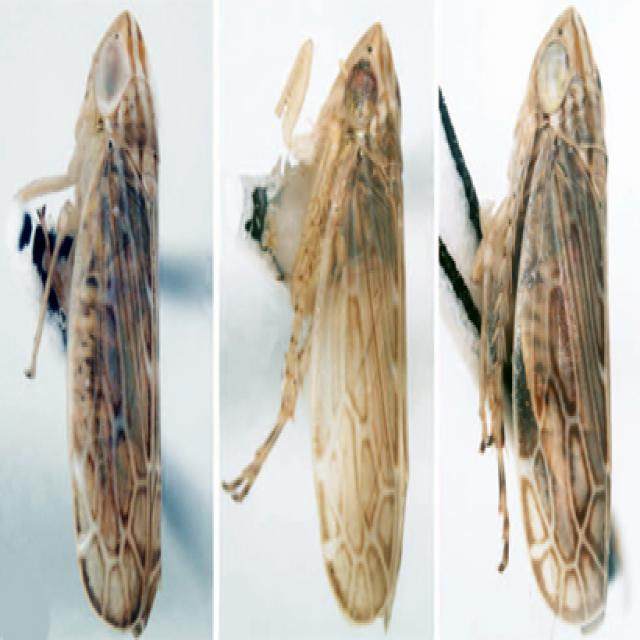Yechan: (483, 2, 620, 638), (54, 1, 178, 632), (283, 11, 410, 624)
